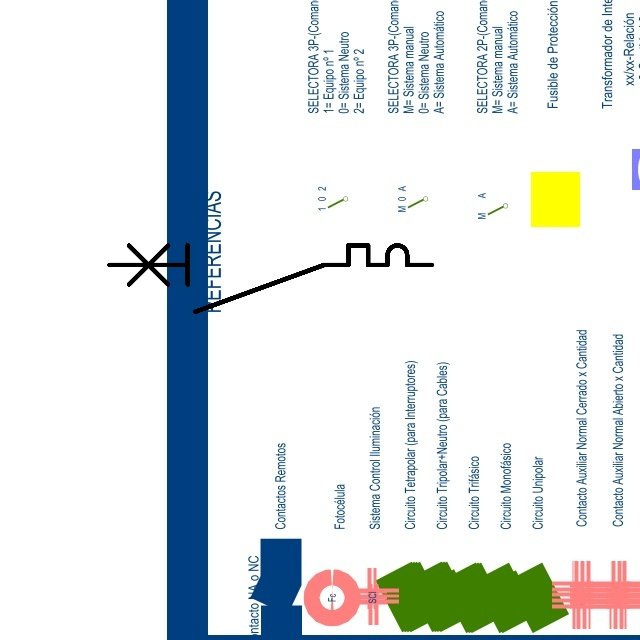interruptor_termomagnetico: (101, 237, 440, 320)
